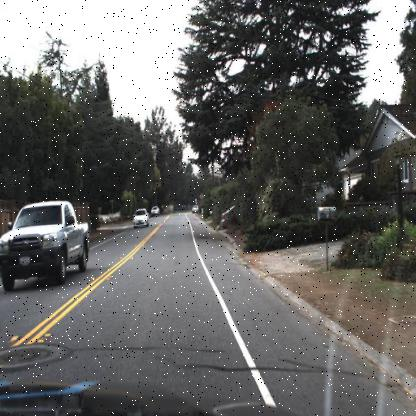car: (0, 200, 92, 292), (217, 205, 239, 227), (132, 208, 150, 228), (148, 202, 160, 216)
